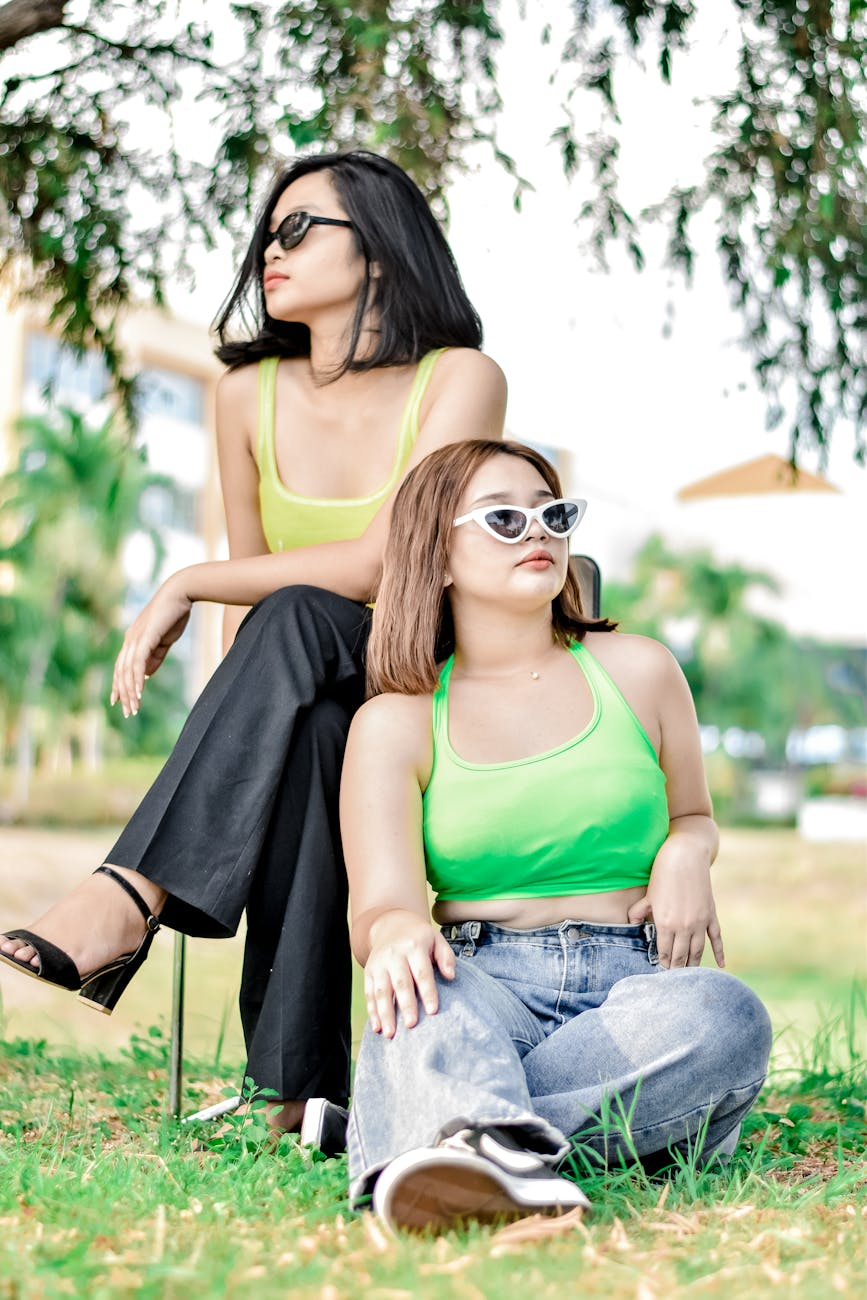crop_top: (378, 631, 696, 907), (228, 340, 467, 553)
opened_foot: (6, 867, 158, 1012)
